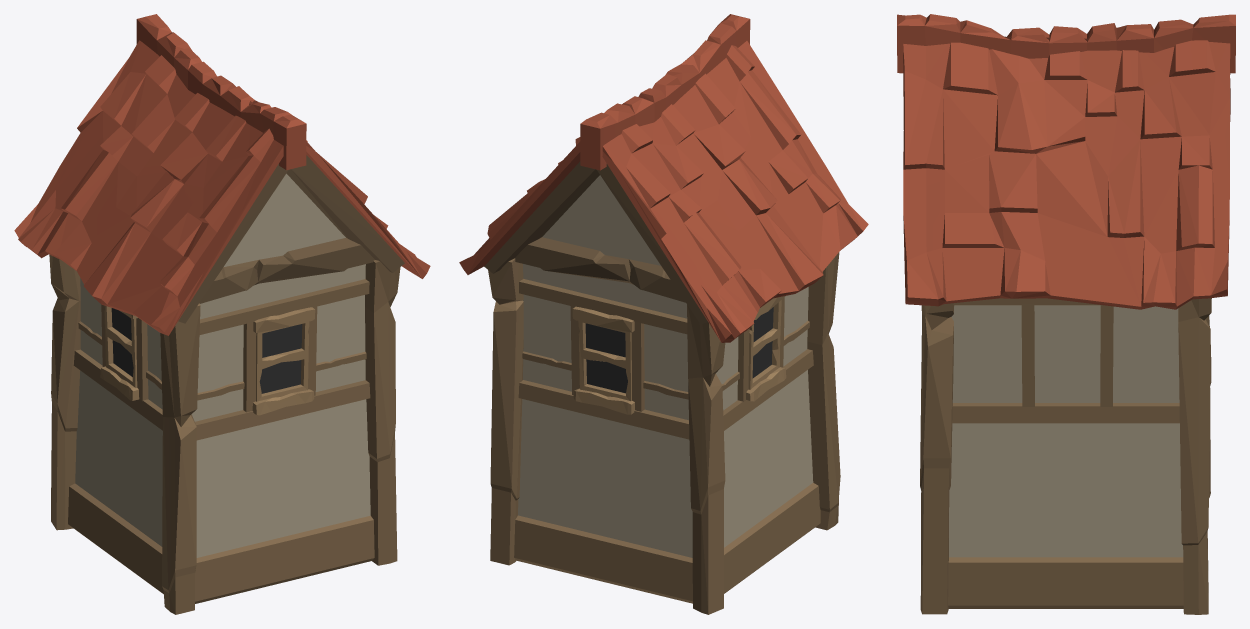
Rendered from SM_Bld_House_RoomTall_02.gltf.
The picture shows the model from 3 angles, left to right: view 1: azimuth 30°, elevation 25°; view 2: azimuth 150°, elevation 25°; view 3: azimuth 270°, elevation 25°; orthographic projection. The views are drawn at different scales.
Parts seen in each view (by area): view 1: SM_Bld_House_RoomTall_02; view 2: SM_Bld_House_RoomTall_02; view 3: SM_Bld_House_RoomTall_02.
Boxes of the visible parts, <box> form: SM_Bld_House_RoomTall_02: <box>14,14,430,614</box>; SM_Bld_House_RoomTall_02: <box>459,14,868,614</box>; SM_Bld_House_RoomTall_02: <box>897,14,1235,614</box>.
Size of the model in its own units: 3.6 by 5.69 by 3.26.
1 material, 1 textured.
